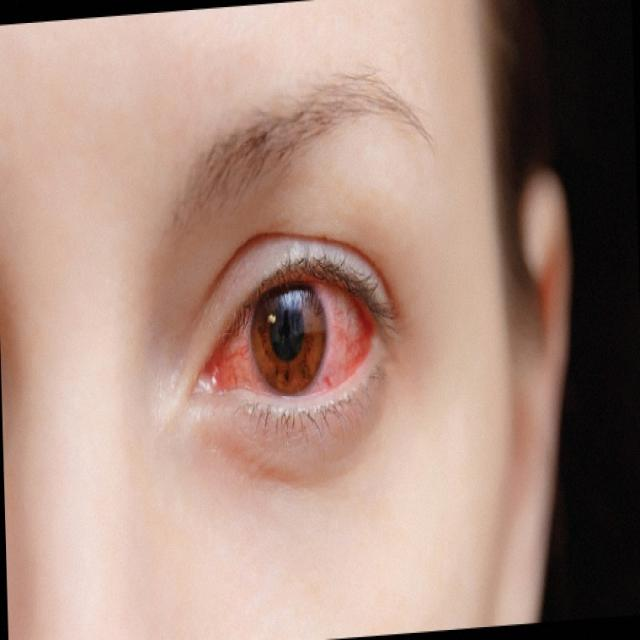Keratitis: (200, 232, 390, 450)
